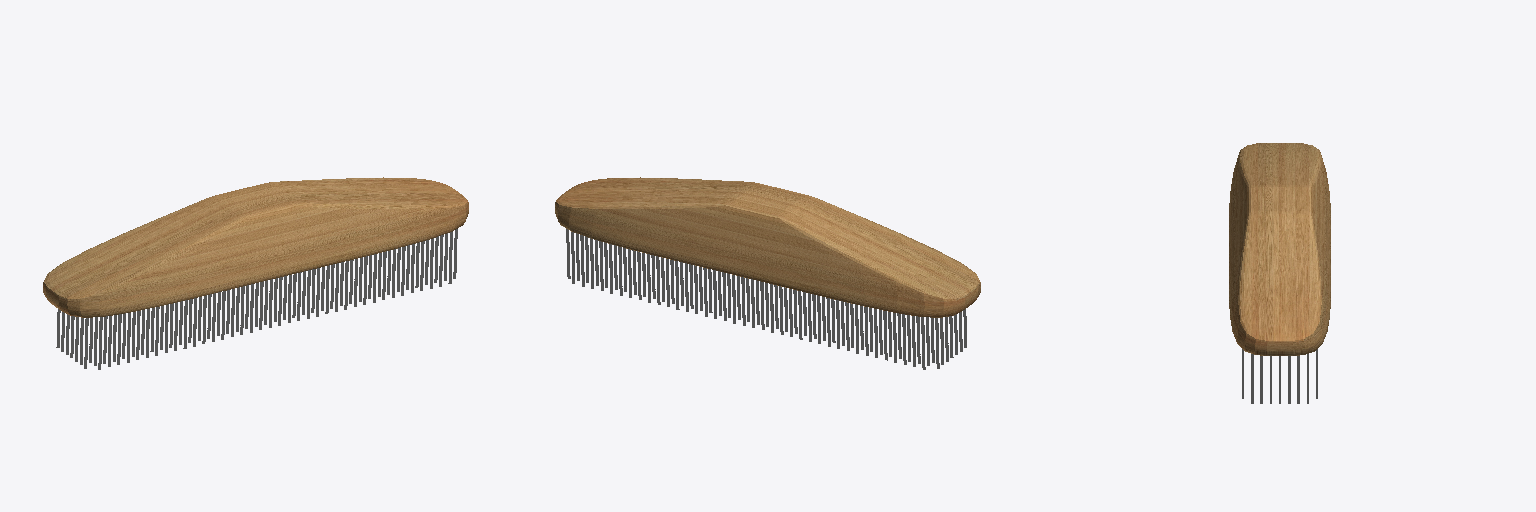
The picture shows the model from 3 angles: view 1: azimuth 30°, elevation 25°; view 2: azimuth 150°, elevation 25°; view 3: azimuth 270°, elevation 25°; orthographic projection.
Visible parts, largest first — view 1: Brosse1; view 2: Brosse1; view 3: Brosse1.
Part boxes in pixels (x1,y1,x2,y2): Brosse1: (43,177,468,369); Brosse1: (555,177,980,369); Brosse1: (1229,143,1330,403).
Size of the model in its own units: 6.06 by 1.63 by 1.32.
Materials: 2 (1 with a texture image).